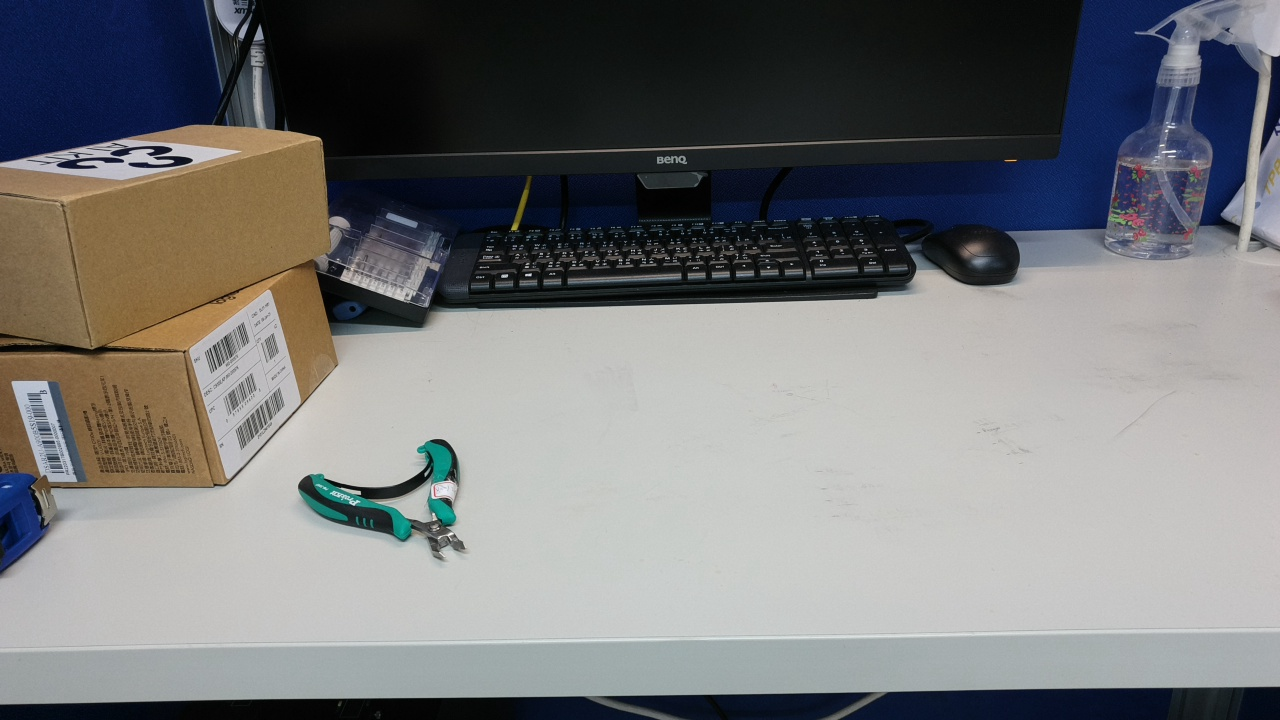columnar: (485, 242, 753, 679)
